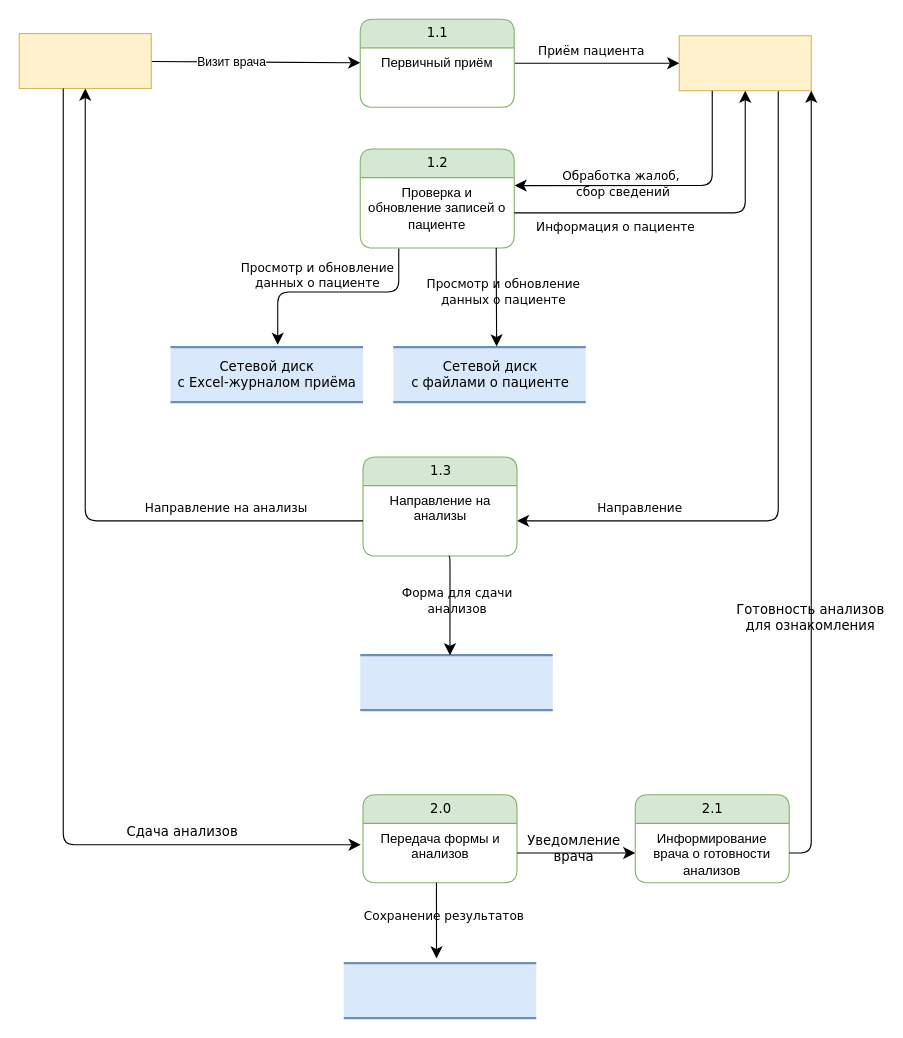
Some shapes in this 903 by 1038 pixel diagram are drawn without their labels. The shapes that lost their labels are listed below. From the top down, each one's centre as x and y in pixels, then its label:
the point at 84,60: Пациент
the point at 744,63: Врач
the point at 456,682: Документ с направлением
the point at 439,990: Сетевой диск с файлами-анализами
